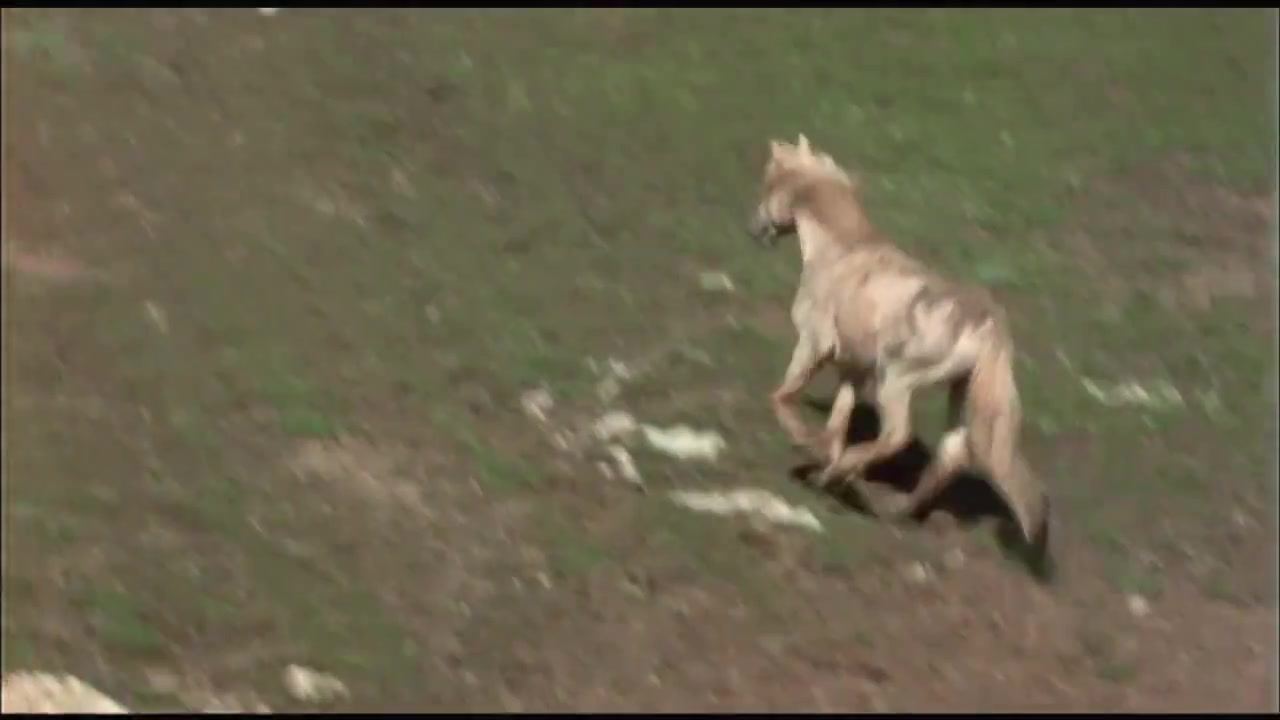horse: (748, 131, 1054, 565)
